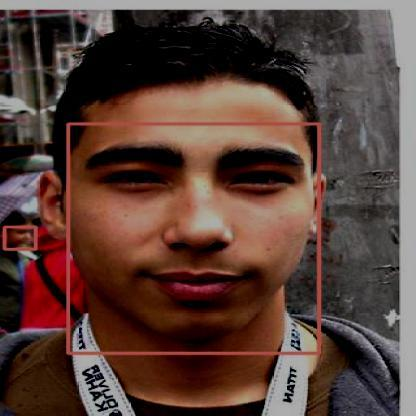without_mask: (68, 123, 319, 353), (4, 226, 35, 249)
